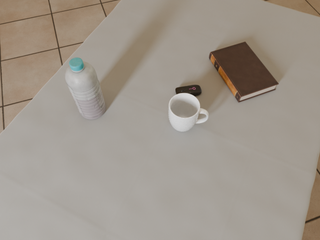book: (209, 42, 279, 102)
bottle: (65, 58, 106, 119)
cup: (169, 93, 209, 132)
mouse: (176, 85, 201, 96)
